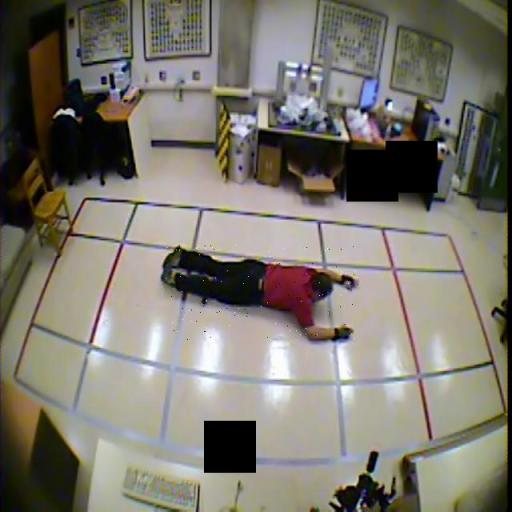Fall: (160, 246, 360, 342)
